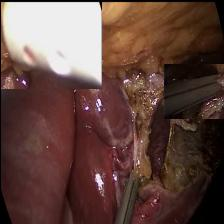Grasper: (163, 63, 224, 118), (110, 169, 140, 223)
Irrigator: (0, 0, 101, 88)
